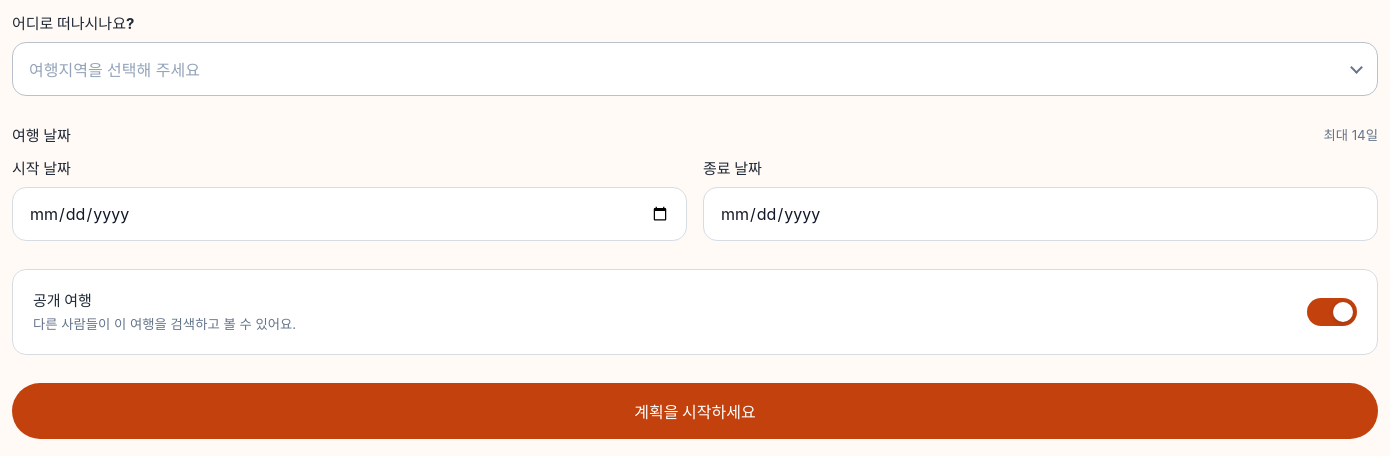
it: PlanSetupView › 지역 목록을 커스텀 드롭다운으로 열고 키보드로 선택한다
This screenshot has width=1390, height=456.
Click the dropdown with id "regionCode" at (114, 70), box 12,42 -> 1378,96
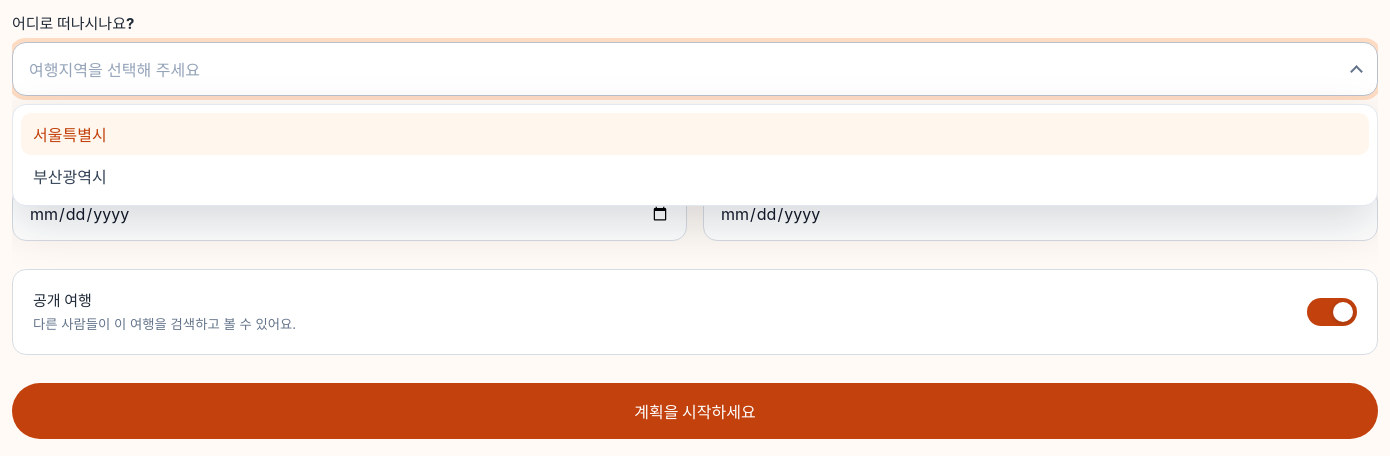
Check: the dropdown with id "regionCode" is expanded
Check: the number of options is 2, box 21,113 -> 1369,155; 33,167 -> 107,187
Press ArrowDown in the dropdown with id "regionCode", box 12,42 -> 1378,96
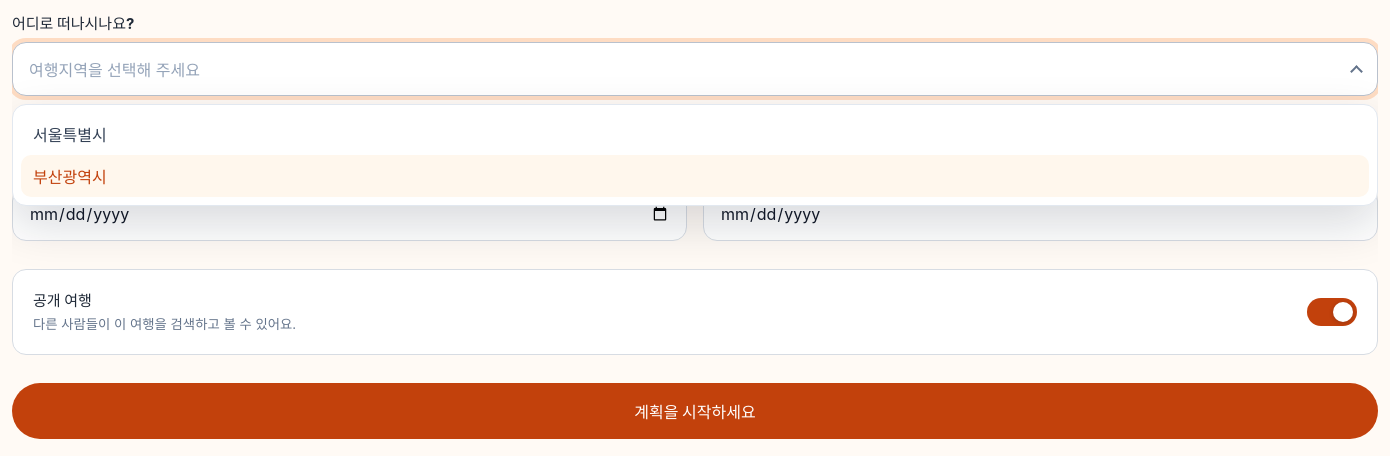
Press Enter in the dropdown with id "regionCode", box 12,42 -> 1378,96
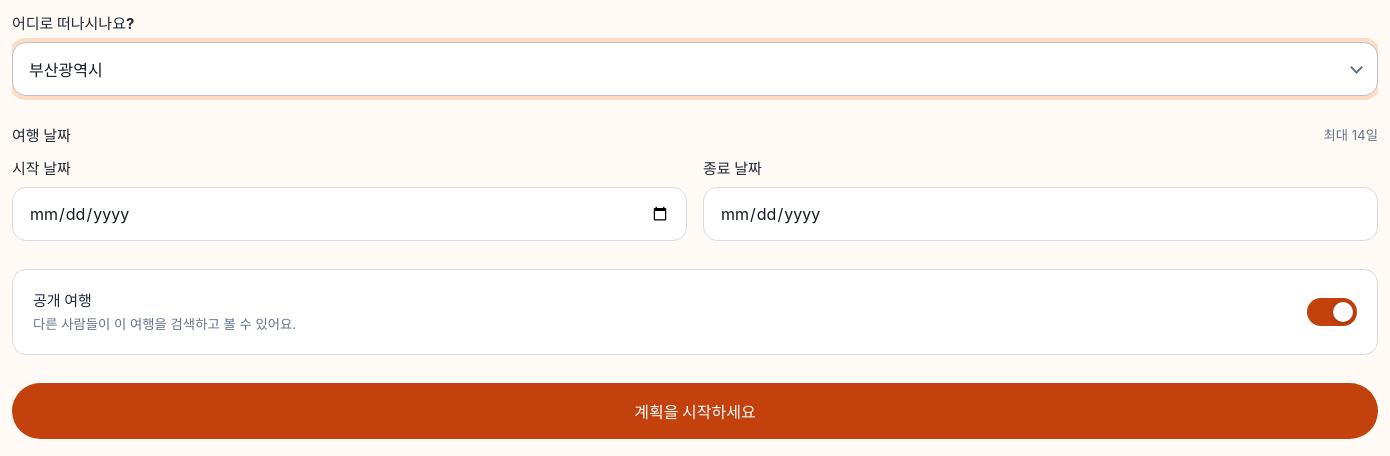
Check: the dropdown with id "regionCode" reads "부산광역시", box 12,42 -> 1378,96
Check: the dropdown with id "regionCode" is collapsed, box 12,42 -> 1378,96
